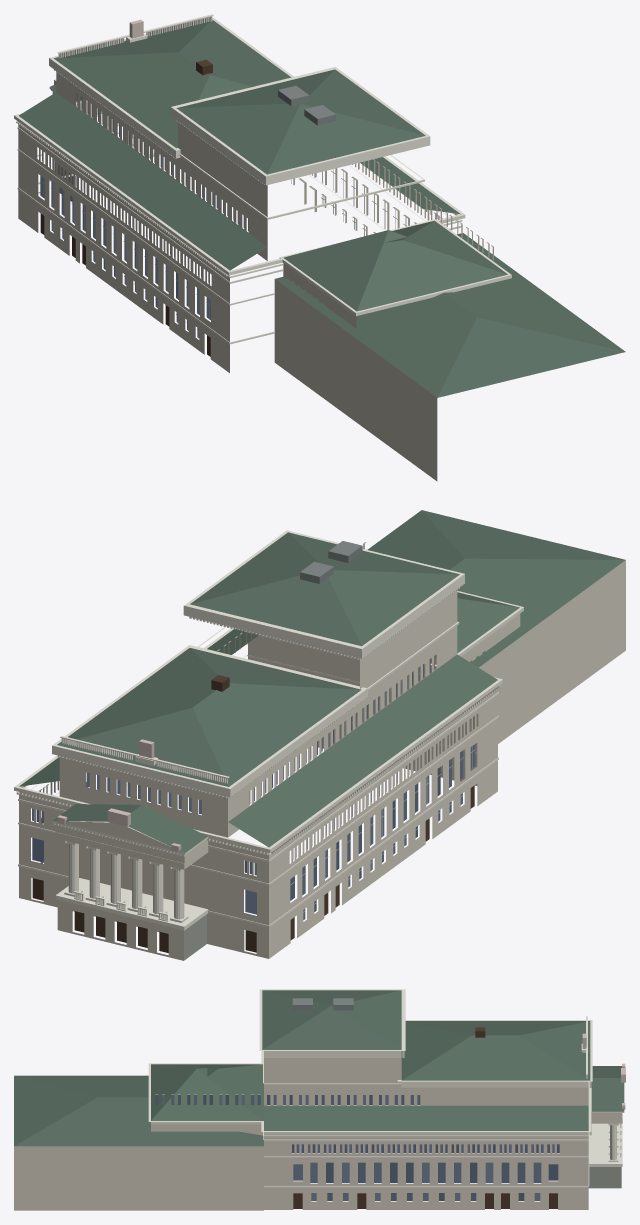
The model's file is opera-b-parametric-lod0.glb.
3 views of the same model, one above another, from view 1: azimuth 30°, elevation 25°; view 2: azimuth 150°, elevation 25°; view 3: azimuth 270°, elevation 25° (orthographic). The views are drawn at different scales.
Parts seen in each view (by area): view 1: opera-b-parametric-lod0; view 2: opera-b-parametric-lod0; view 3: opera-b-parametric-lod0.
Boxes of the visible parts, x1,y1,x2,y2 form: opera-b-parametric-lod0: (14, 14, 625, 481); opera-b-parametric-lod0: (14, 510, 625, 960); opera-b-parametric-lod0: (14, 989, 625, 1210).
Size of the model in its own units: 41.5 by 35.9 by 121.
3 materials, 3 textured.
